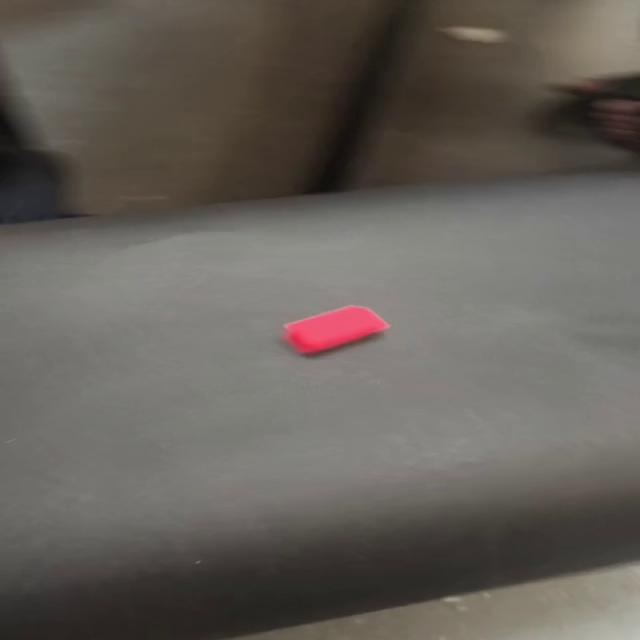red block: (282, 304, 389, 355)
